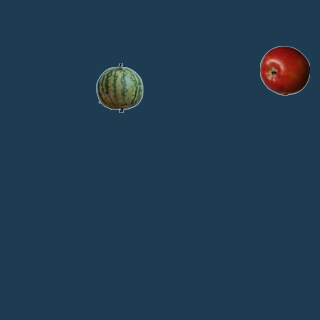Apple Braeburn: (259, 45, 309, 95)
Watermelon: (94, 62, 144, 112)
